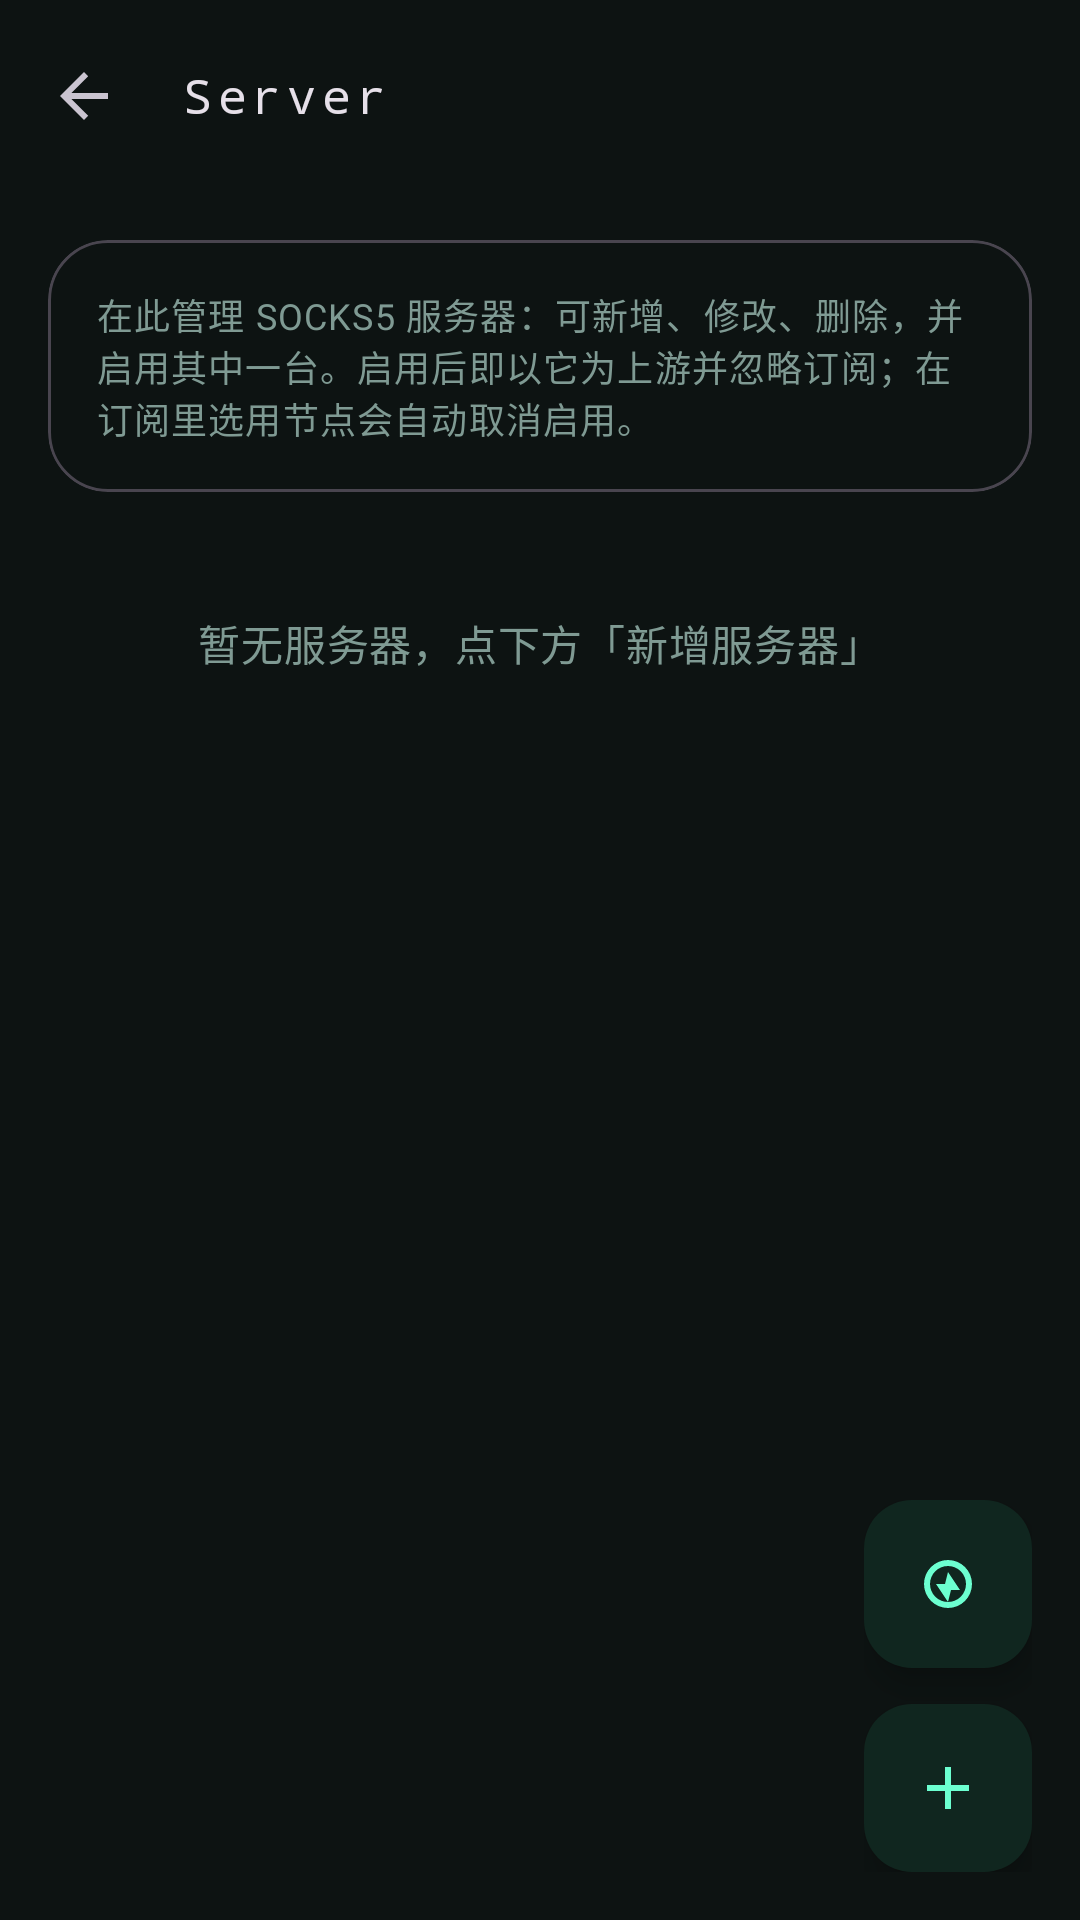

Screen size 1080 x 1920. Icon name, then its center in pixels as (x,y):
新增服务器: (948,1788)
测速全部: (948,1584)
